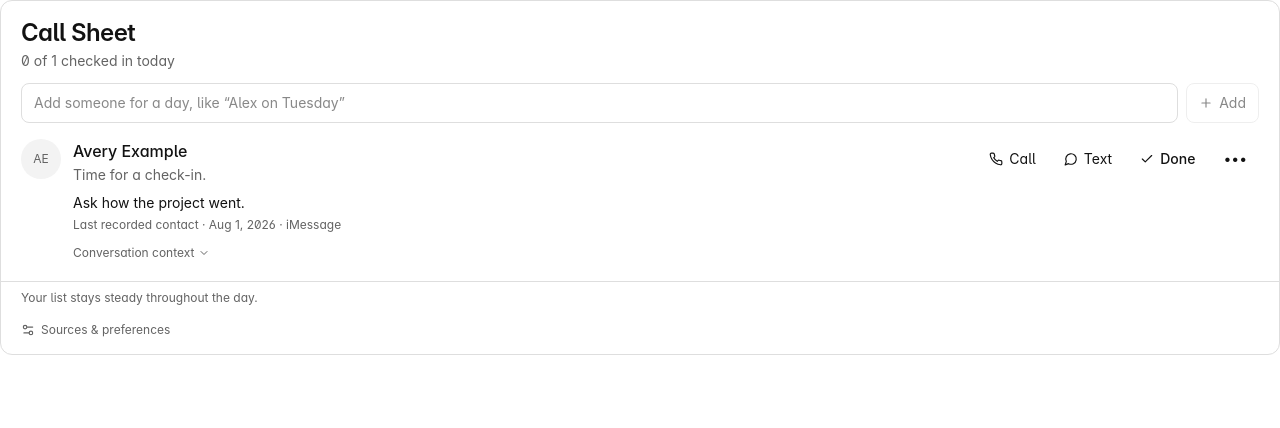
it: daily call sheet › refreshes conflicts without replaying the action
The width and height of the screenshot is (1280, 428).
Step 1. Click the button "Call" → (1013, 159), box x1=977 y1=139 x2=1048 y2=179
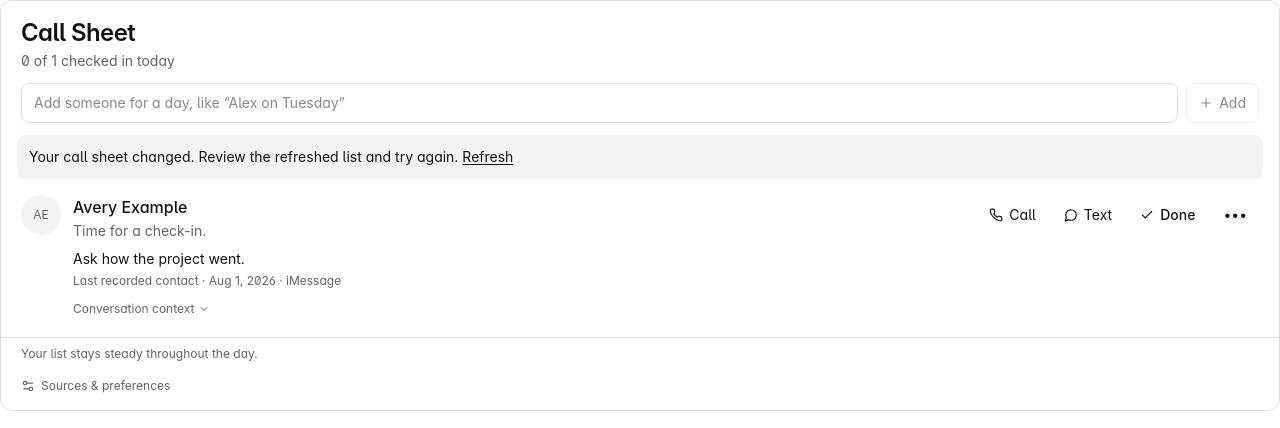
Expected: the text "Review the refreshed list" is shown, x1=29 y1=148 x2=458 y2=165
